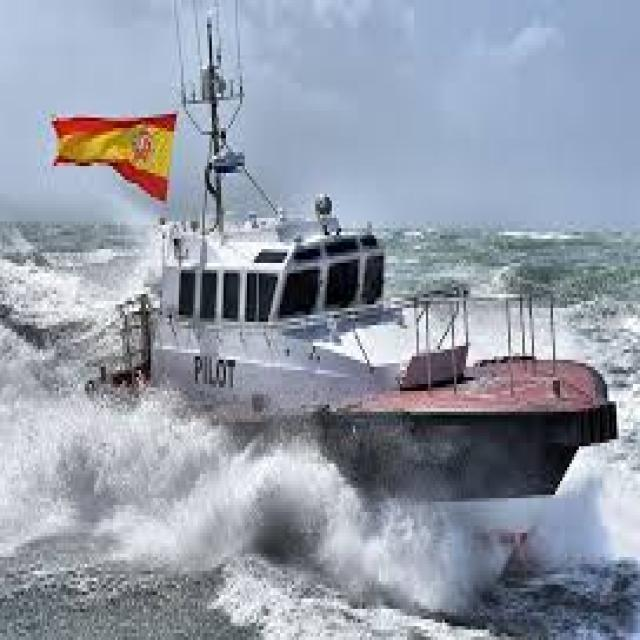houseboat: (88, 1, 622, 582)
